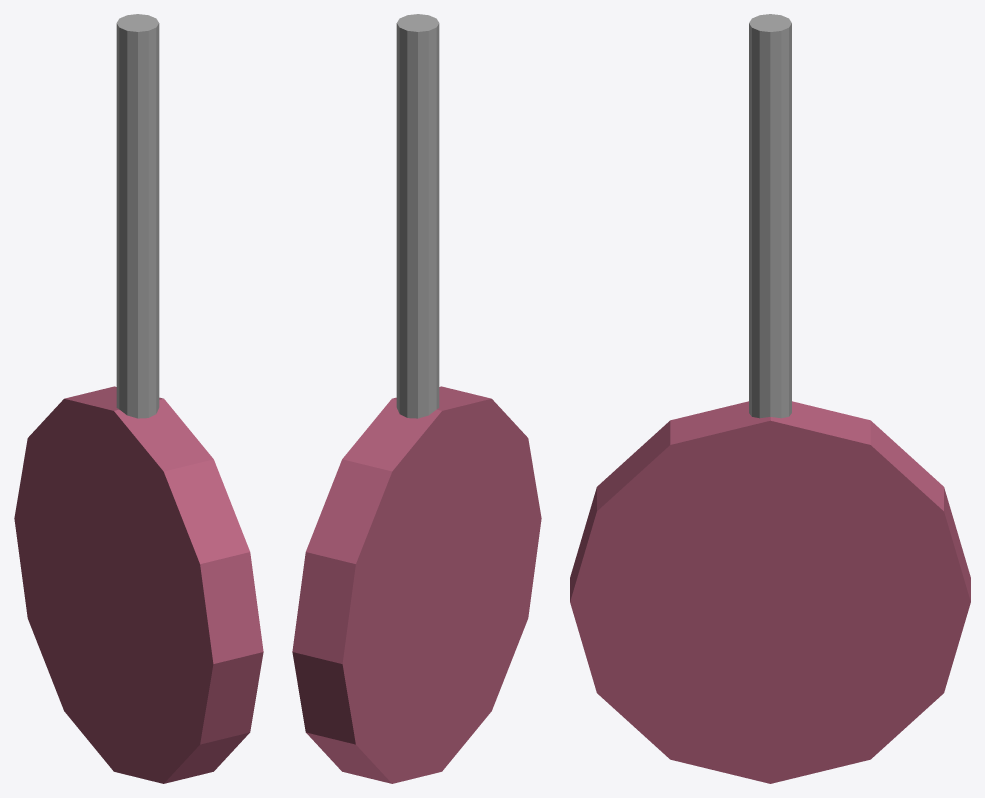
Rendered from Tube1_Drug.fbx.
The picture shows the model from 3 angles, left to right: view 1: azimuth 30°, elevation 25°; view 2: azimuth 150°, elevation 25°; view 3: azimuth 270°, elevation 25°; orthographic projection.
Visible parts, largest first — view 1: pCylinder16, pCylinder17; view 2: pCylinder16, pCylinder17; view 3: pCylinder16, pCylinder17.
Boxes of the visible parts, box(x1,y1,x2,y2) form: pCylinder16: box(14, 386, 263, 783); pCylinder17: box(116, 14, 159, 418); pCylinder16: box(292, 386, 541, 783); pCylinder17: box(396, 14, 439, 418); pCylinder16: box(570, 401, 970, 783); pCylinder17: box(749, 14, 791, 418).
Size of the model in its own units: 0.1653 by 2.34 by 1.14.
